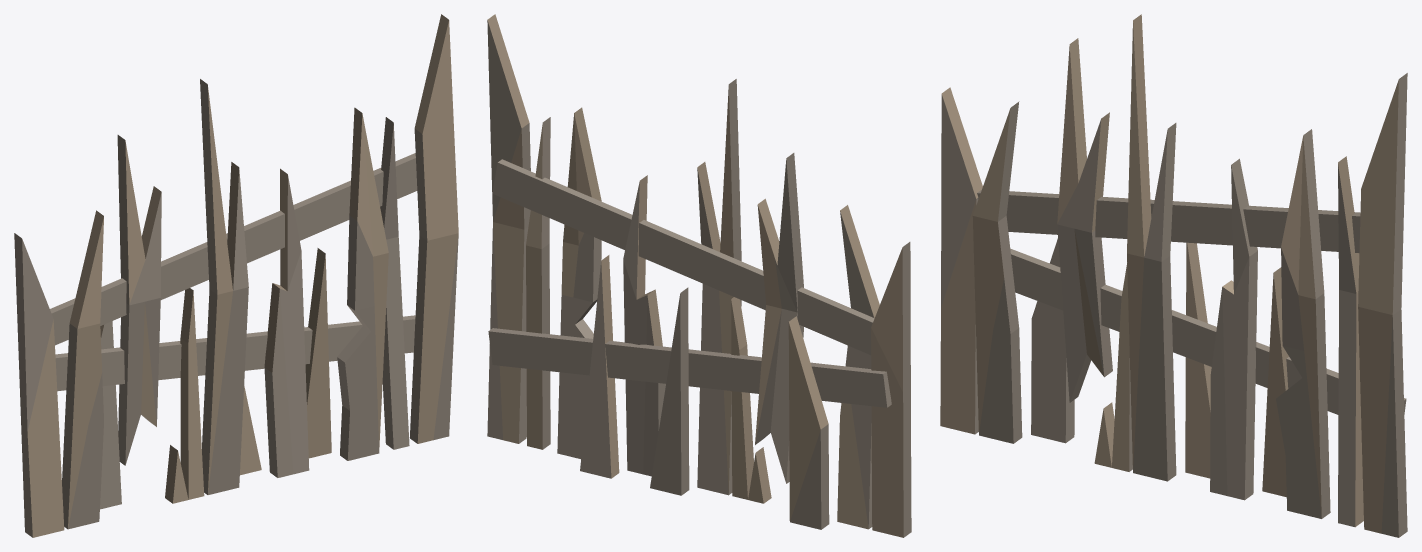
The model's file is fenceBroken.fbx.
The picture shows the model from 3 angles, left to right: view 1: azimuth 30°, elevation 25°; view 2: azimuth 150°, elevation 25°; view 3: azimuth 330°, elevation 25°; orthographic projection. The views are drawn at different scales.
Parts seen in each view (by area): view 1: polySurface29; view 2: polySurface29; view 3: polySurface29.
Boxes of the visible parts, x1=… form: polySurface29: x1=14, y1=14, x2=458, y2=537; polySurface29: x1=487, y1=14, x2=911, y2=537; polySurface29: x1=940, y1=14, x2=1407, y2=537.
Size of the model in its own units: 12.1 by 11.38 by 1.67.
